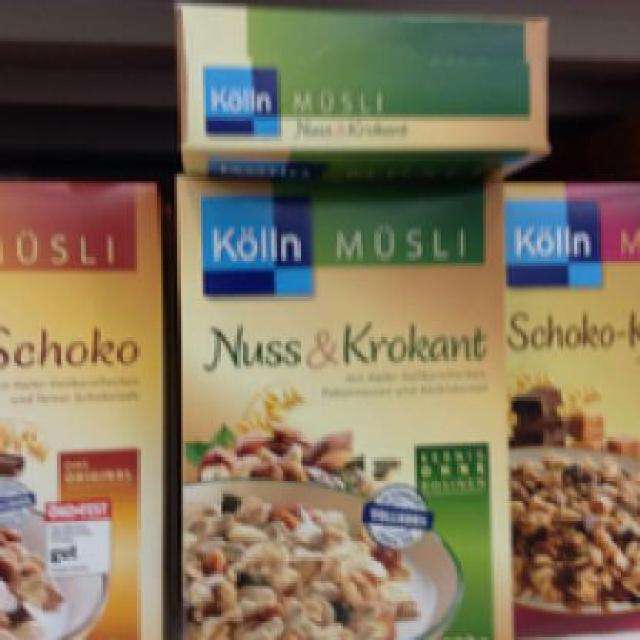Cereal: (172, 168, 512, 634), (0, 174, 160, 632), (497, 177, 634, 634)
